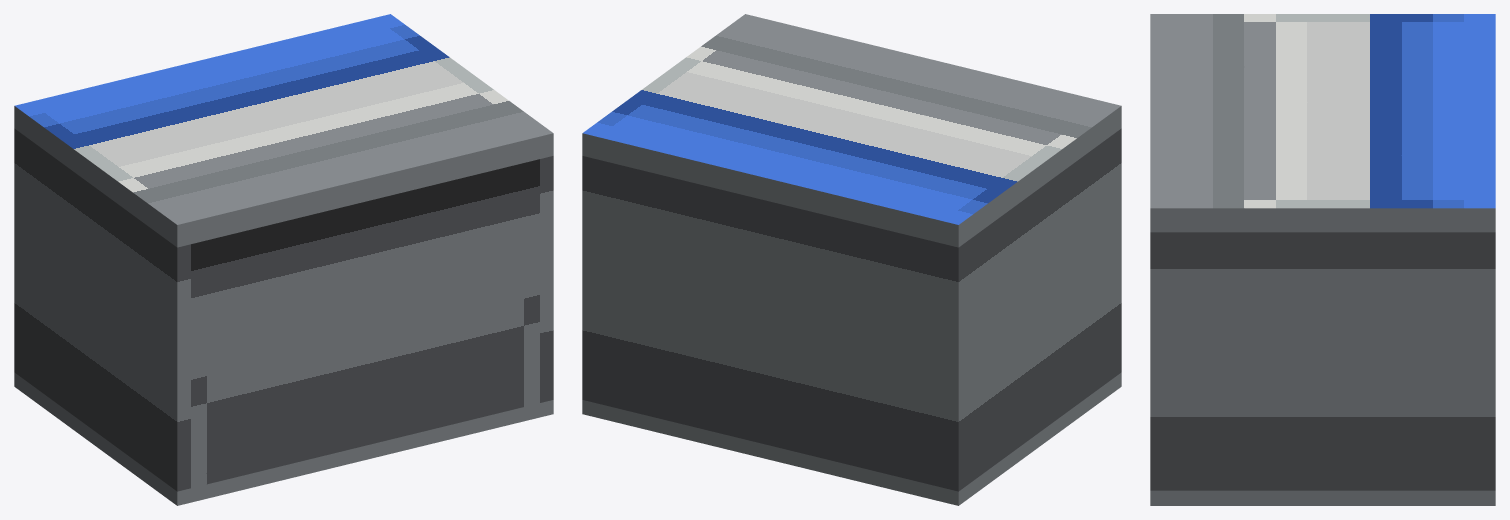
Rendered from mail_crate.glb.
The picture shows the model from 3 angles, left to right: view 1: azimuth 30°, elevation 25°; view 2: azimuth 150°, elevation 25°; view 3: azimuth 270°, elevation 25°; orthographic projection. The views are drawn at different scales.
Parts seen in each view (by area): view 1: mail_crate_Body, mail_crate_Lid; view 2: mail_crate_Body, mail_crate_Lid; view 3: mail_crate_Body, mail_crate_Lid.
Part boxes in pixels (box(x1,y1,x2,y2)): mail_crate_Body: box(14, 128, 553, 505); mail_crate_Lid: box(14, 14, 553, 247); mail_crate_Body: box(582, 128, 1121, 505); mail_crate_Lid: box(582, 14, 1121, 247); mail_crate_Body: box(1150, 232, 1495, 505); mail_crate_Lid: box(1150, 14, 1495, 232).
Size of the model in its own units: 0.96 by 0.685 by 0.72.
2 materials, 2 textured.
